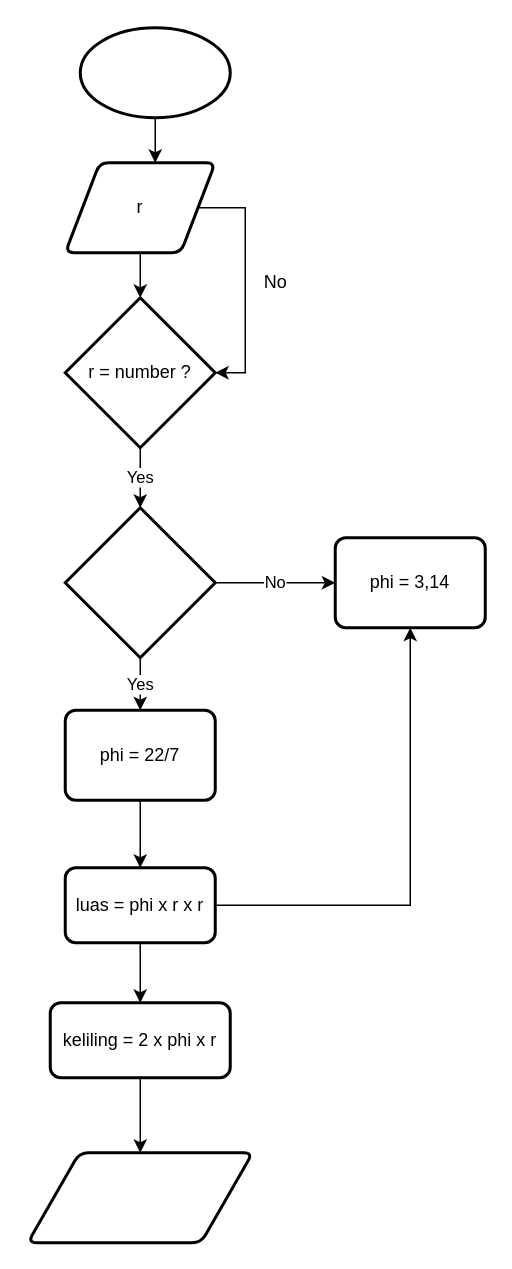
Some shapes in this 512 by 1269 pixel diagram are drawn without their labels. Here are the shapes that lost their labels. From the top down, the centre of each, then its label:
[154,72]: Mulai
[139,582]: r % 7 = 0 ?
[140,1197]: Output Luas dan Keliling
